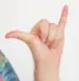clockwise: (4, 4, 69, 67)
